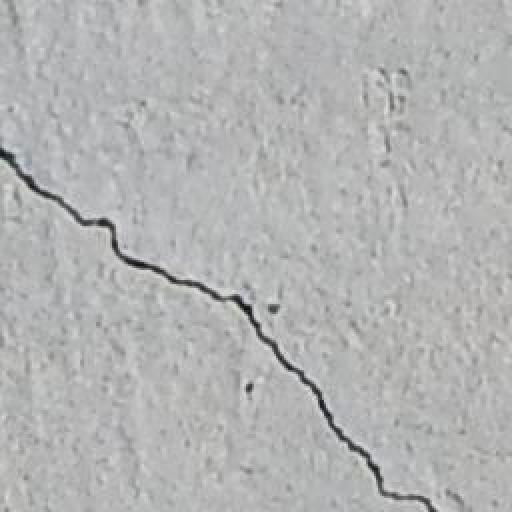spalling: (3, 139, 456, 512)
